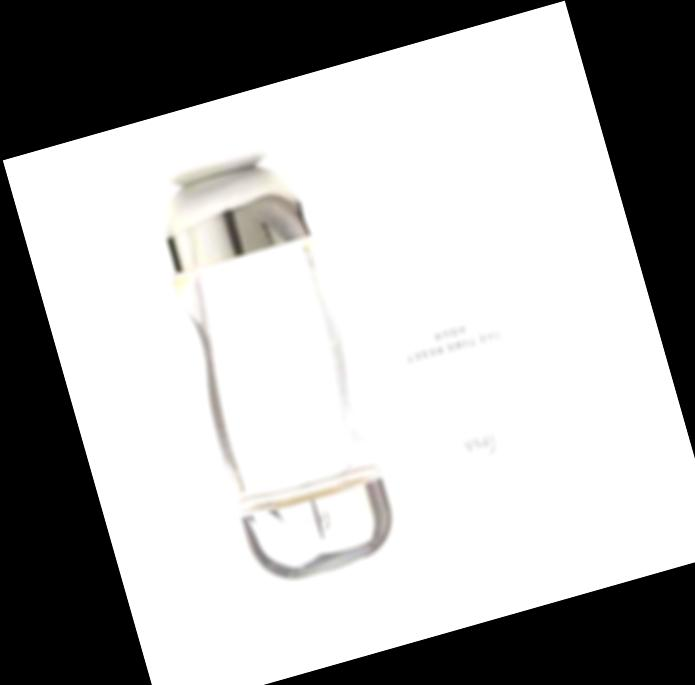cosmetic: (140, 151, 402, 592)
